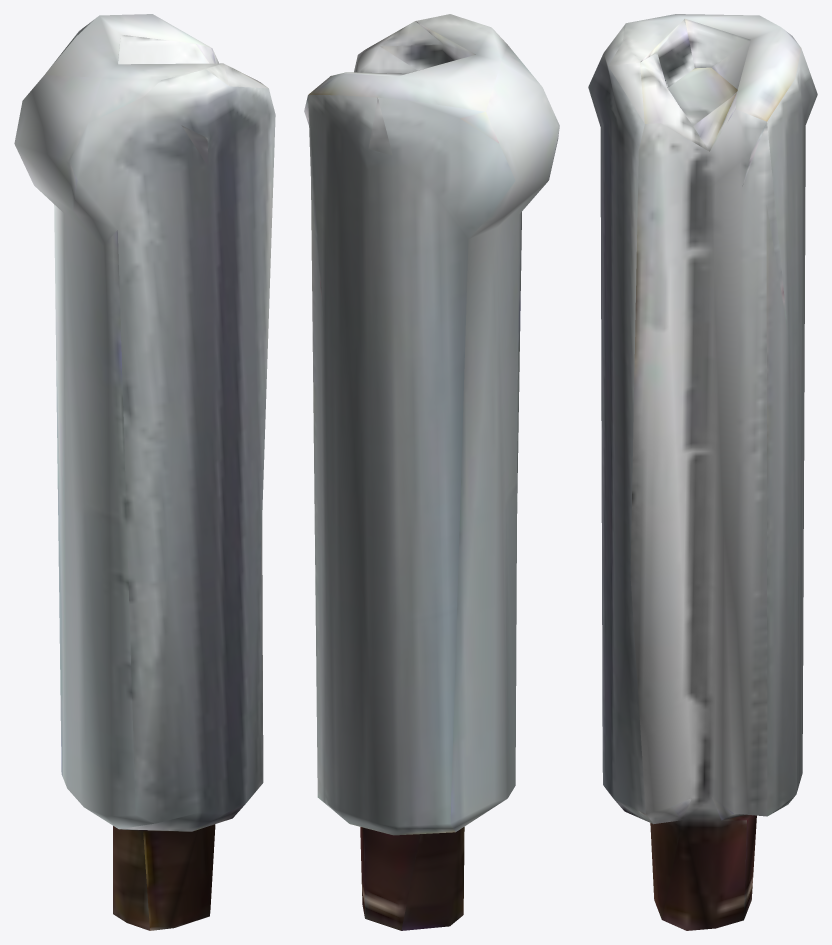
The model's file is blade_wide.glb.
3 renders of one model, left to right at view 1: azimuth 30°, elevation 25°; view 2: azimuth 150°, elevation 25°; view 3: azimuth 270°, elevation 25°, orthographic.
Visible parts, largest first — view 1: wide blade; view 2: wide blade; view 3: wide blade.
Part boxes in pixels (x1,y1,x2,y2): wide blade: [14, 14, 275, 930]; wide blade: [304, 14, 559, 930]; wide blade: [588, 14, 817, 930].
Bounding box in the file's own units: 0.0884 × 0.3511 × 0.0837.
Materials: 1 (1 with a texture image).
